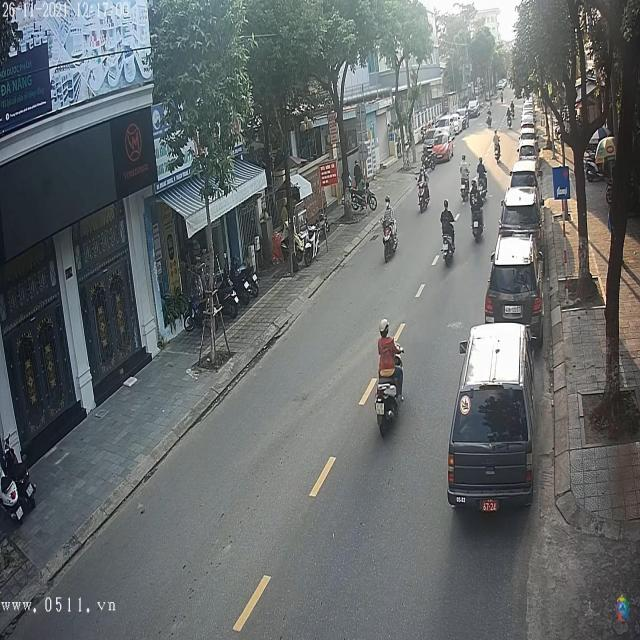car: (449, 324, 535, 512), (485, 236, 542, 329), (501, 185, 541, 230), (432, 136, 454, 161), (469, 99, 480, 115)
motorcycle: (374, 372, 403, 438), (381, 212, 401, 262), (440, 226, 458, 268), (417, 176, 432, 217), (472, 200, 484, 243)
